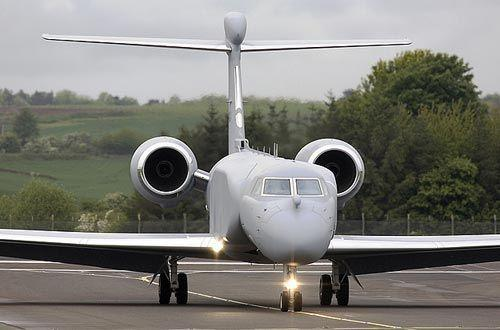airplane: (1, 11, 498, 301)
